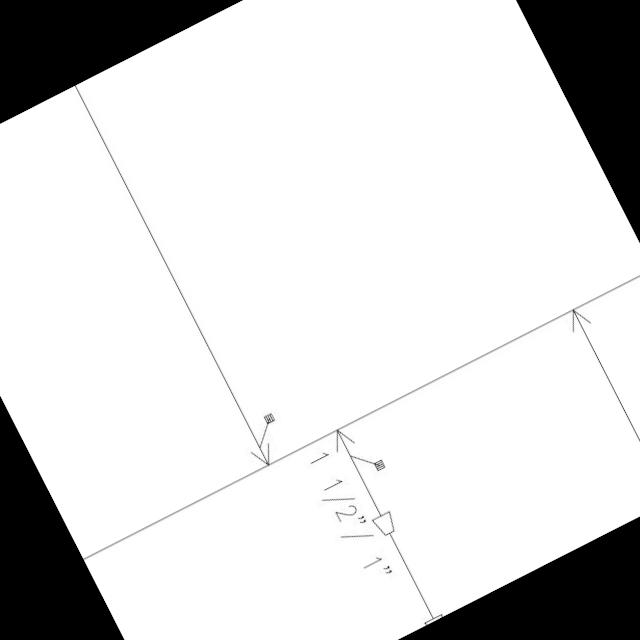SP: (366, 502, 405, 542)
